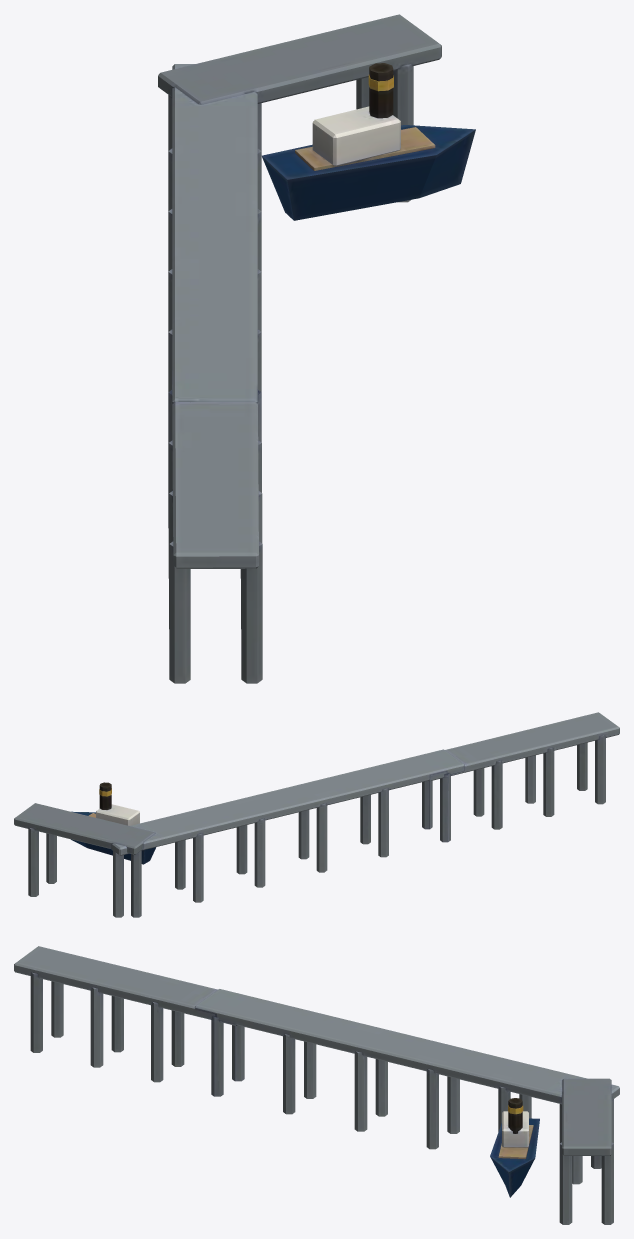
Rendered from harbor-pier-15.glb.
3 renders of one model, top to bottom at view 1: azimuth 30°, elevation 25°; view 2: azimuth 150°, elevation 25°; view 3: azimuth 270°, elevation 25°, orthographic. The views are drawn at different scales.
Parts seen in each view (by area): view 1: harbor-pier-15; view 2: harbor-pier-15; view 3: harbor-pier-15.
Part boxes in pixels (x1,y1,x2,y2): harbor-pier-15: (158,14,475,683); harbor-pier-15: (14,712,619,917); harbor-pier-15: (14,946,619,1224).
Bounding box in the file's own units: 2.33 × 0.55 × 2.92.
1 material, 1 textured.
